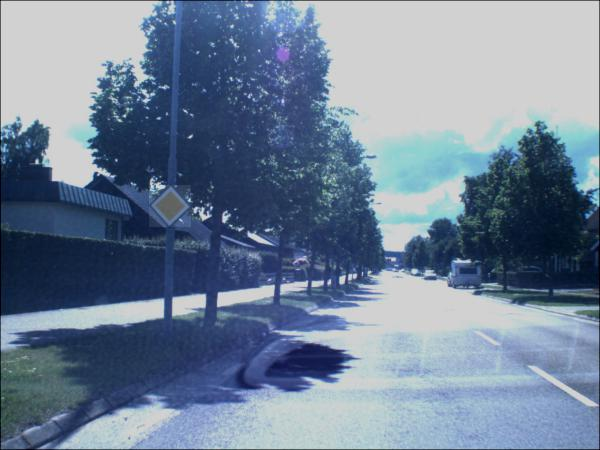PRIORITY_ROAD: (149, 186, 192, 229)
